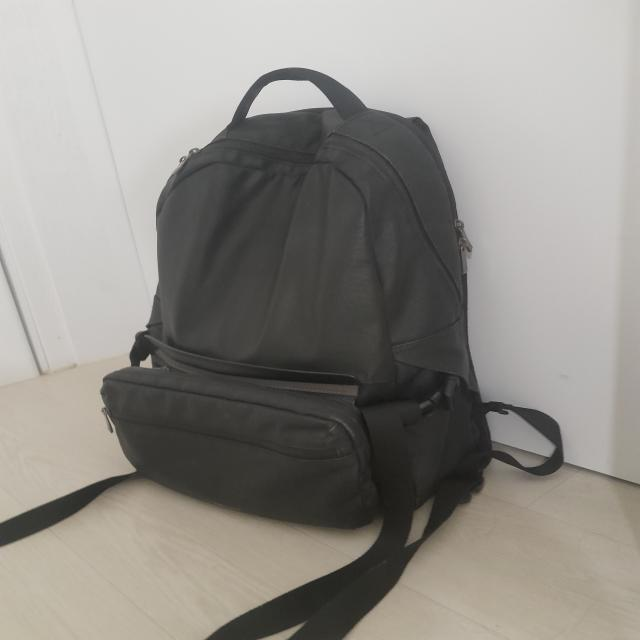backpack: (1, 66, 563, 640)
